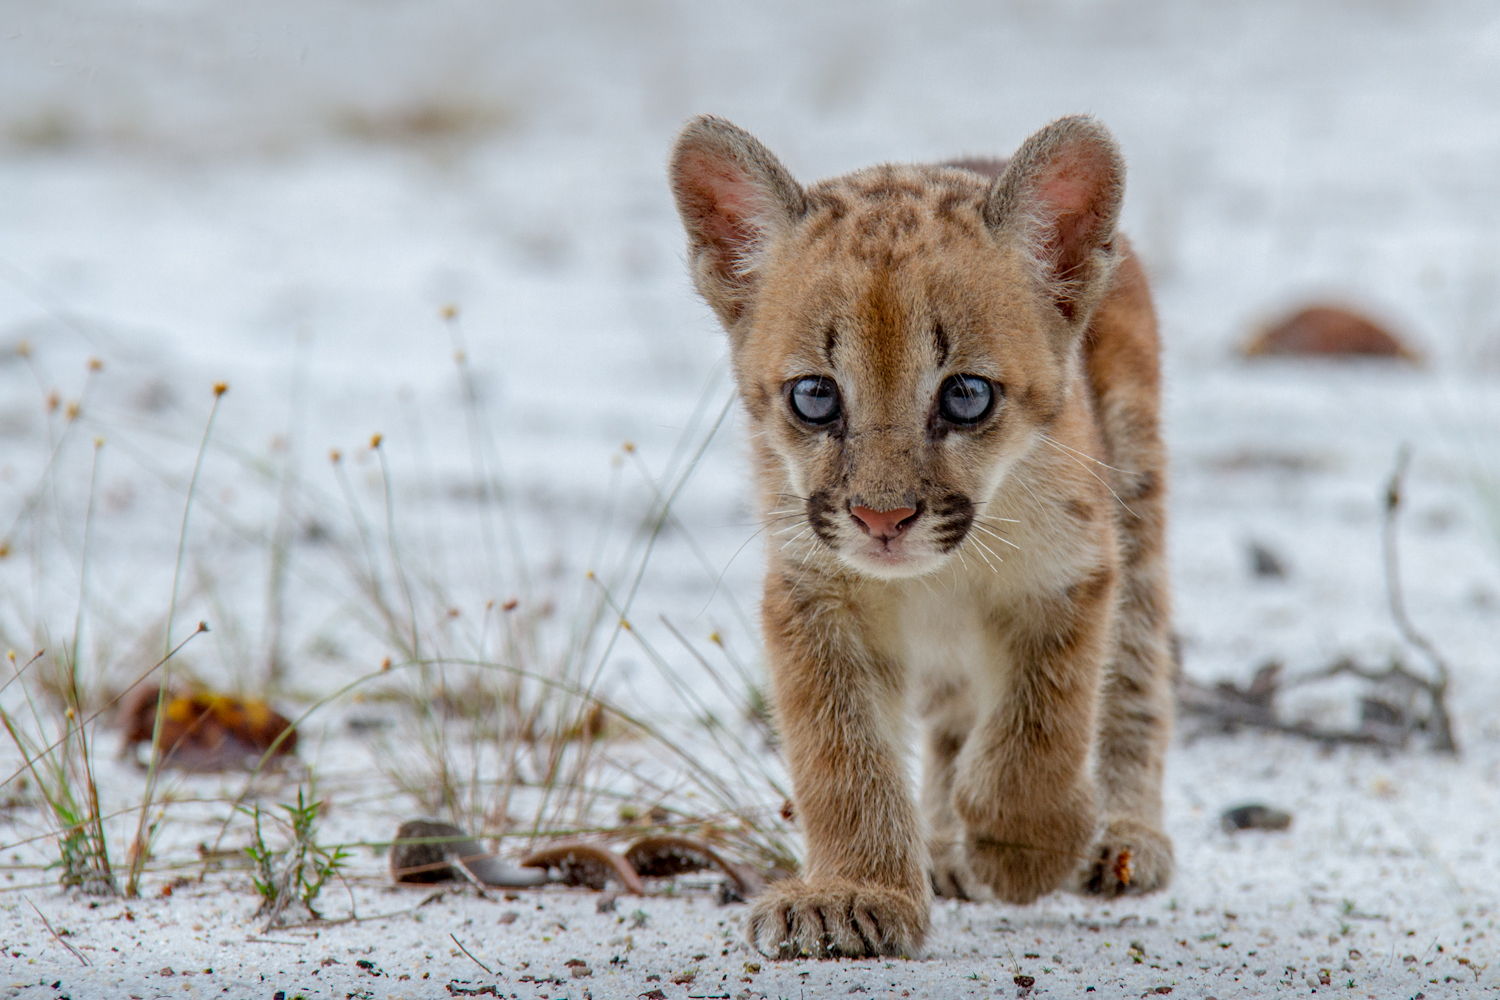OncaParda: (651, 92, 1199, 969)
